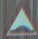Speed Breaker ahead: (1, 1, 37, 37)
